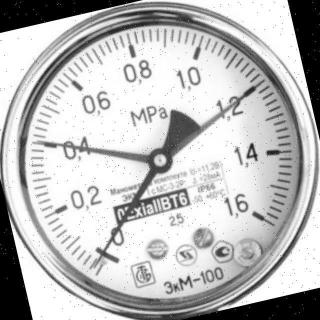gauge: (5, 4, 320, 320), (82, 231, 121, 274), (234, 194, 274, 233), (144, 144, 176, 177), (236, 79, 262, 103), (88, 250, 110, 274), (28, 133, 48, 153)
